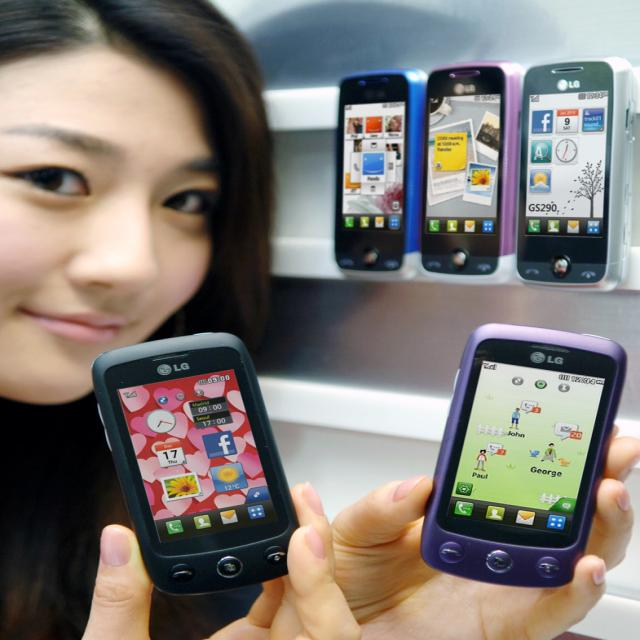Mobile-phone: (95, 330, 320, 601), (420, 322, 624, 590), (512, 56, 632, 294), (412, 59, 523, 281), (334, 66, 425, 280)
